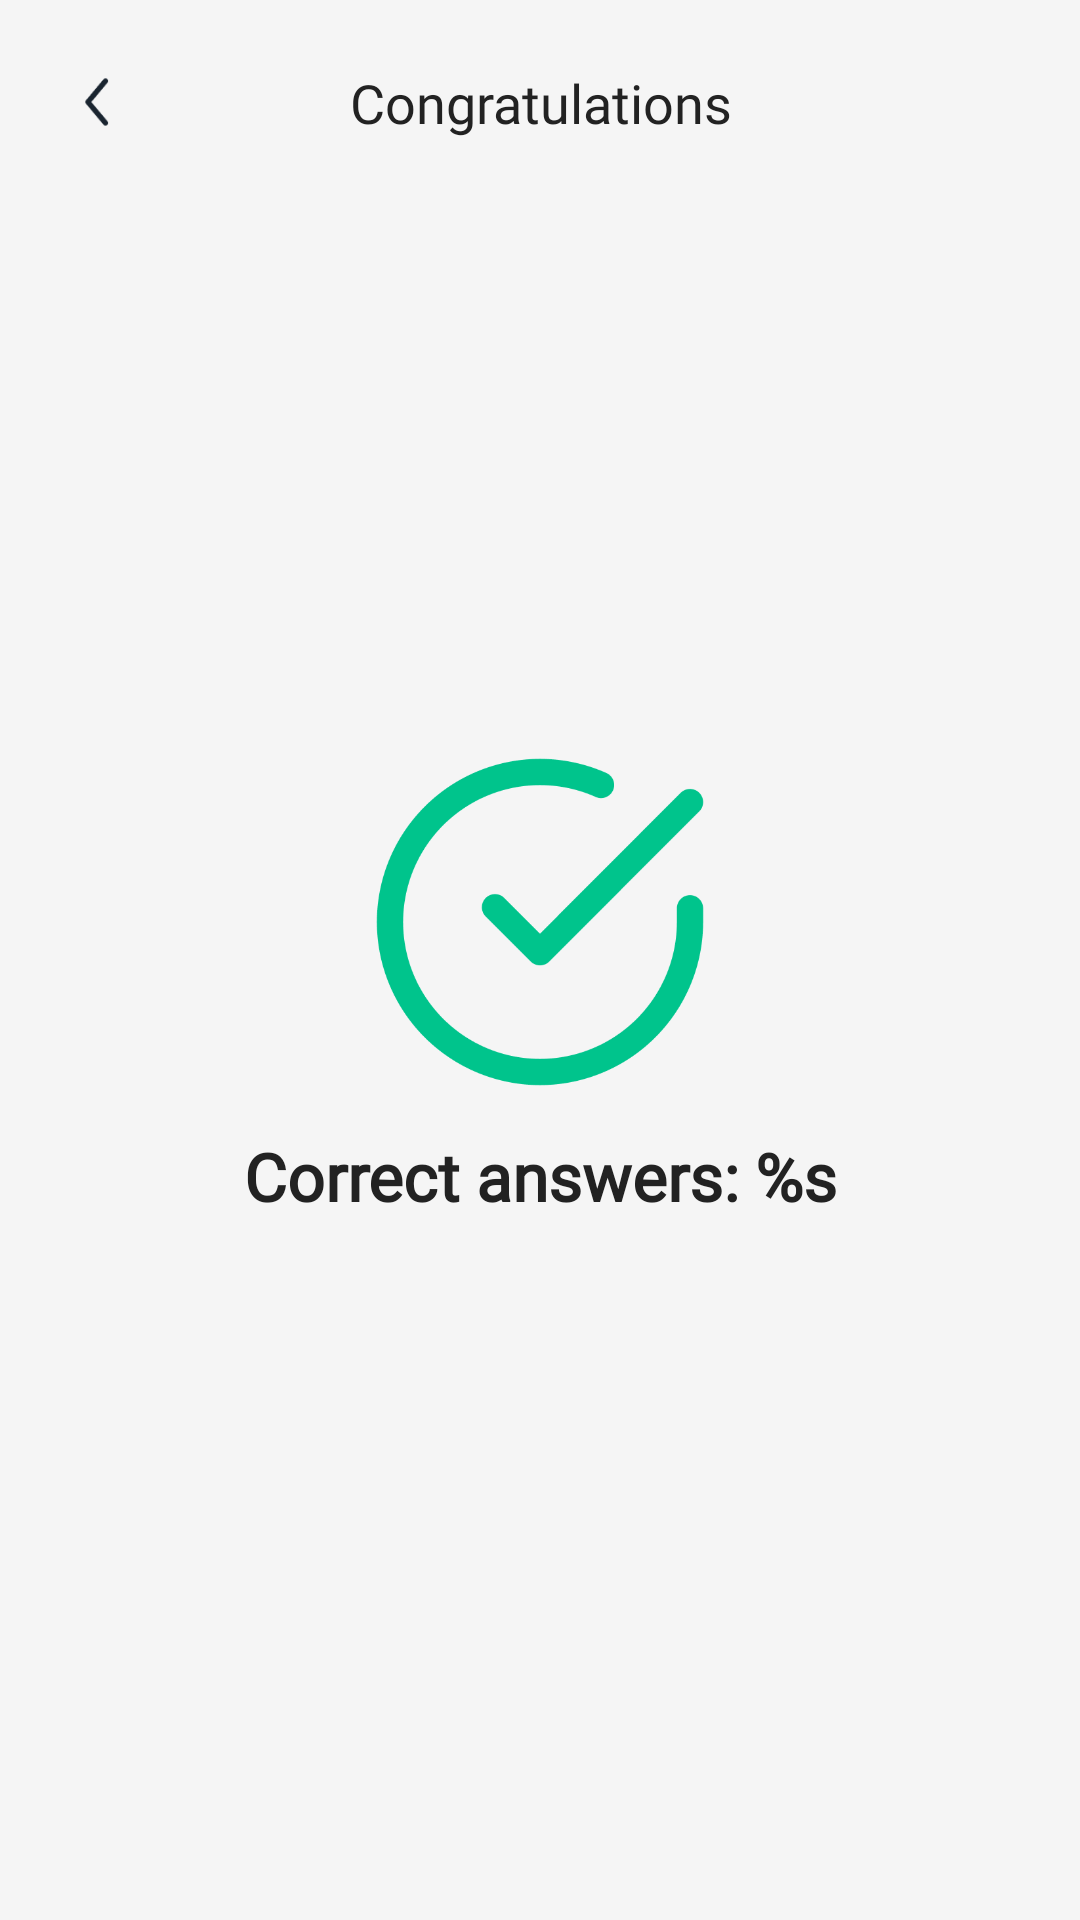

Icons on this 1080 × 1920 Android screen, each with its box as detection(x1, y1, x2, y2):
back: detection(85, 78, 108, 126)
check circle: detection(376, 758, 704, 1086)
